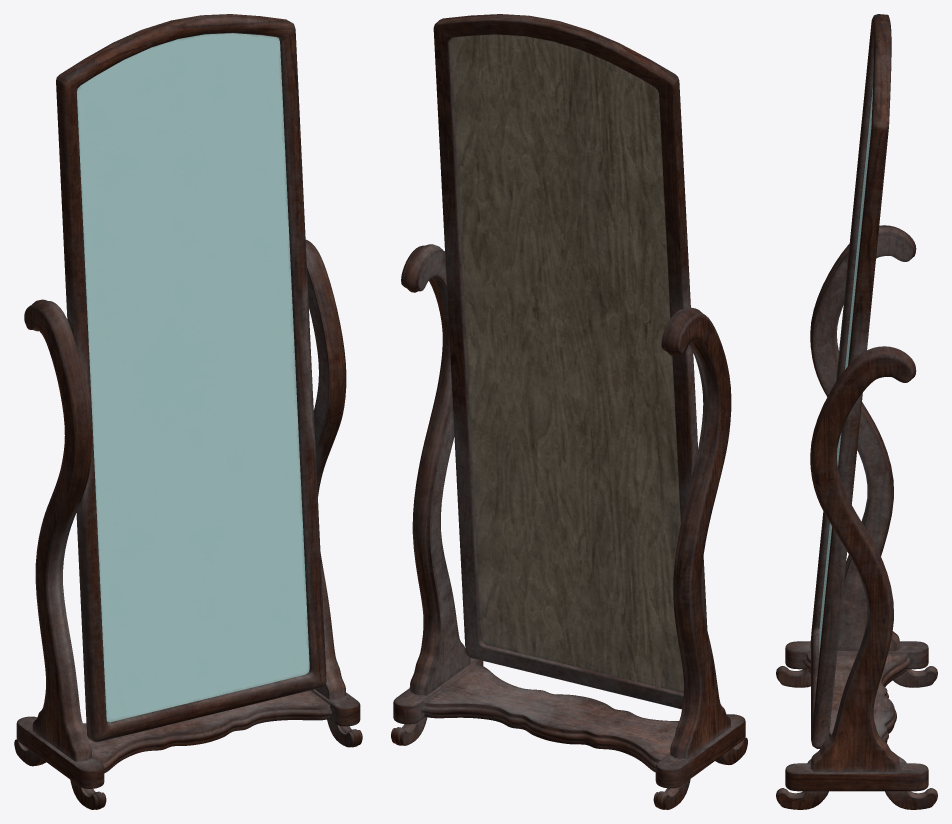
3 views of the same model, side by side, from view 1: azimuth 30°, elevation 25°; view 2: azimuth 150°, elevation 25°; view 3: azimuth 270°, elevation 25° (orthographic). The views are drawn at different scales.
Visible parts, largest first — view 1: obj1, obj3, obj4, obj5, obj6; view 2: obj2, obj3, obj4, obj5, obj6; view 3: obj4, obj3, obj5, obj6, obj1.
Boxes of the visible parts, x1=… form: obj1: x1=77, y1=33, x2=309, y2=722; obj3: x1=56, y1=14, x2=326, y2=742; obj4: x1=24, y1=239, x2=346, y2=761; obj5: x1=16, y1=689, x2=360, y2=788; obj6: x1=14, y1=719, x2=362, y2=809; obj2: x1=450, y1=34, x2=683, y2=692; obj3: x1=433, y1=14, x2=707, y2=709; obj4: x1=401, y1=244, x2=731, y2=758; obj5: x1=393, y1=658, x2=745, y2=788; obj6: x1=391, y1=717, x2=747, y2=809; obj4: x1=810, y1=225, x2=916, y2=771; obj3: x1=811, y1=14, x2=891, y2=748; obj5: x1=785, y1=641, x2=928, y2=791; obj6: x1=776, y1=666, x2=937, y2=809; obj1: x1=819, y1=87, x2=872, y2=654.
Size of the model in its own units: 71.62 by 176 by 36.77.
1 material, 1 textured.
